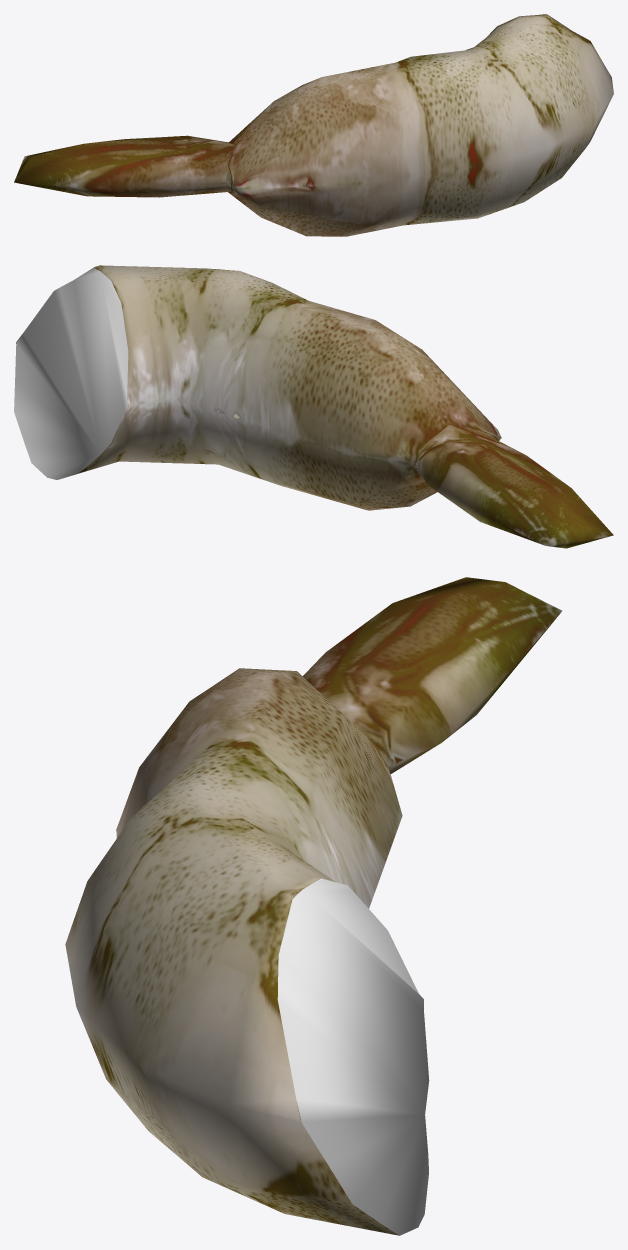
The model's file is Shrimp2.fbx.
3 views of the same model, one above another, from view 1: azimuth 30°, elevation 25°; view 2: azimuth 150°, elevation 25°; view 3: azimuth 270°, elevation 25° (orthographic). The views are drawn at different scales.
Parts seen in each view (by area): view 1: Shrimp001; view 2: Shrimp001; view 3: Shrimp001.
Part boxes in pixels (bbox=[...]): Shrimp001: bbox=[14, 14, 613, 236]; Shrimp001: bbox=[14, 265, 613, 548]; Shrimp001: bbox=[65, 577, 562, 1235].
Bounding box in the file's own units: 1717 × 476 × 664.
Materials: 2 (1 with a texture image).
